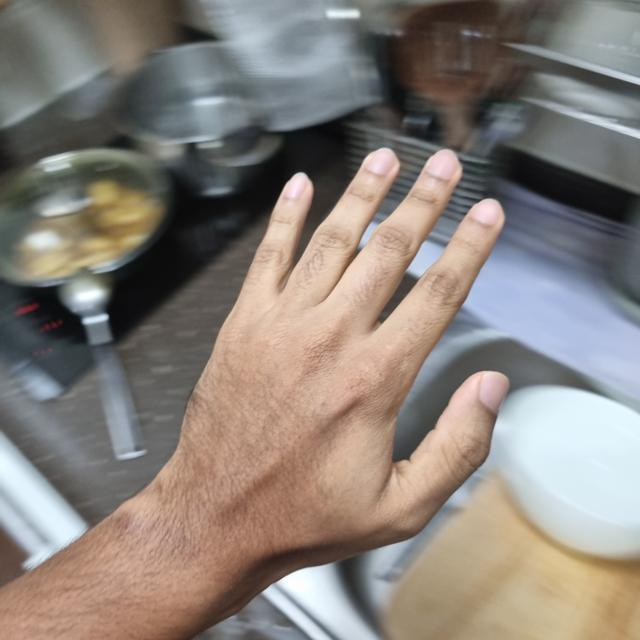Paper: (168, 151, 507, 566)
